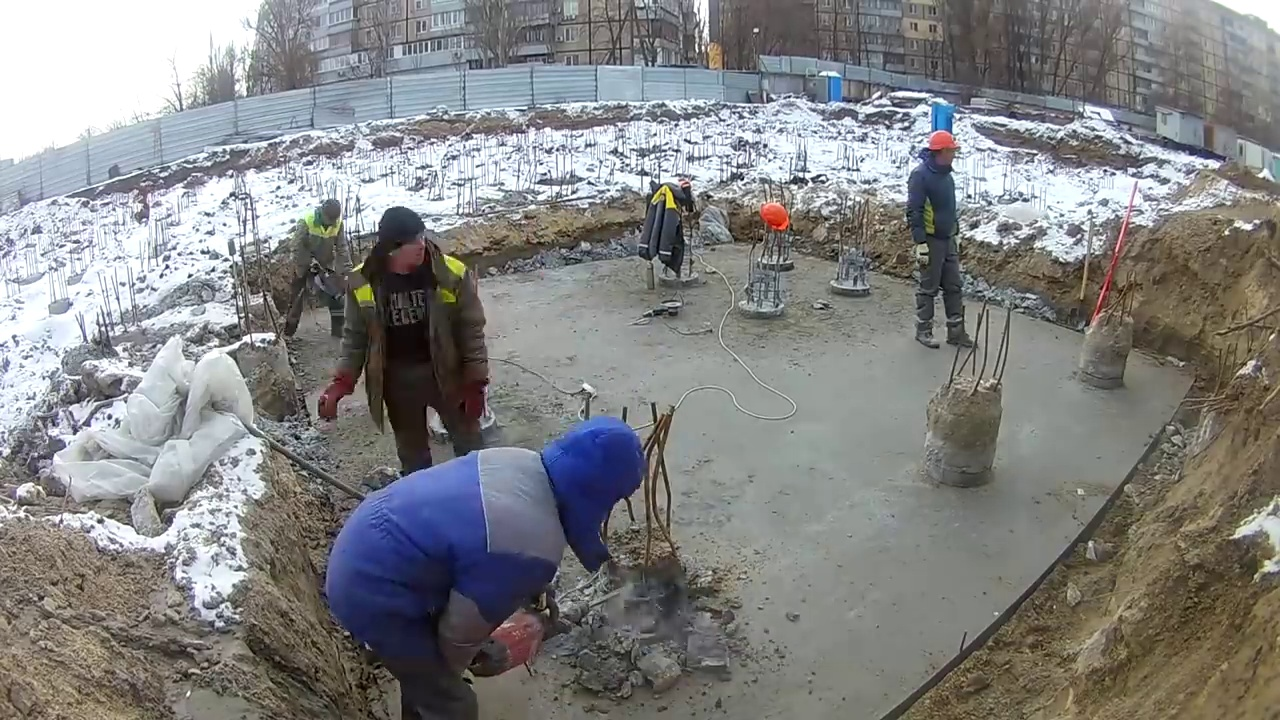helmet: (924, 132, 961, 155)
helmet-off: (543, 420, 643, 547), (373, 210, 432, 289), (315, 199, 342, 238)
helmet-on: (922, 133, 961, 177), (758, 204, 790, 229)
person: (316, 417, 644, 720), (324, 206, 494, 474), (907, 130, 976, 350), (282, 200, 353, 342)
